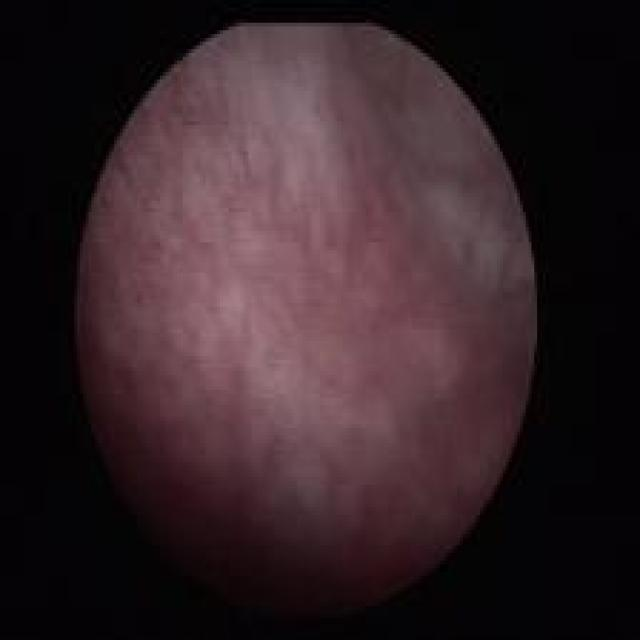blur: (72, 21, 538, 622)
contrast: (74, 322, 227, 616), (226, 476, 511, 621)
